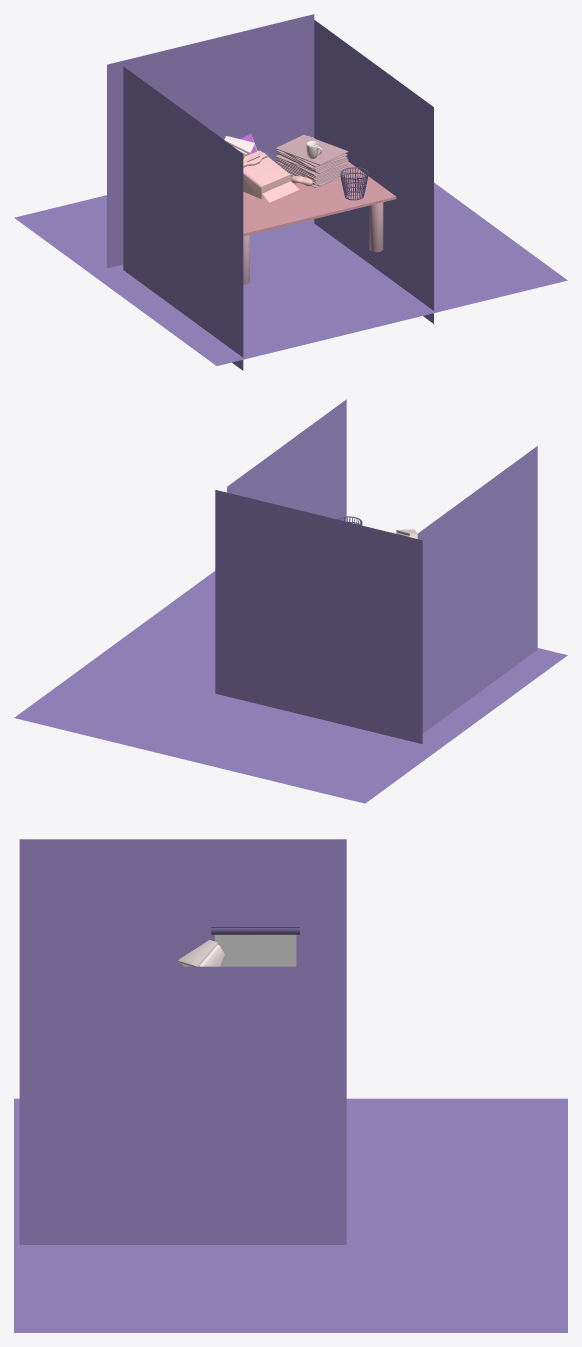
Rendered from desksetupone.fbx.
3 renders of one model, top to bottom at view 1: azimuth 30°, elevation 25°; view 2: azimuth 150°, elevation 25°; view 3: azimuth 270°, elevation 25°, orthographic. The views are drawn at different scales.
Visible parts, largest first — view 1: Plane.001, Plane.002, Plane.003, Plane.004, Plane, Plane.021, Cube, Cylinder.001, Cylinder.003; view 2: Plane.004, Plane.001, Plane.002, Plane.003; view 3: Plane.003, Plane.001, Plane.002, Plane.008, Cylinder.005, Cube.007.
Part boxes in pixels (box(x1,y1,x2,y2)): Plane.001: box(14, 182, 567, 365); Plane.002: box(123, 66, 243, 370); Plane.003: box(314, 20, 433, 323); Plane.004: box(107, 14, 314, 268); Plane: box(243, 161, 396, 236); Plane.021: box(275, 134, 348, 187); Cube: box(243, 137, 299, 202); Cylinder.001: box(369, 202, 383, 252); Cylinder.003: box(340, 167, 368, 200); Plane.004: box(215, 490, 422, 743); Plane.001: box(14, 571, 567, 803); Plane.002: box(417, 446, 537, 733); Plane.003: box(227, 399, 346, 521); Plane.003: box(19, 966, 346, 1244); Plane.001: box(14, 1098, 567, 1332); Plane.002: box(19, 839, 346, 966); Plane.008: box(215, 934, 296, 966); Cylinder.005: box(178, 940, 224, 966); Cube.007: box(211, 927, 299, 934).
Bounding box in the file's own units: 1894 × 1118 × 1894.
